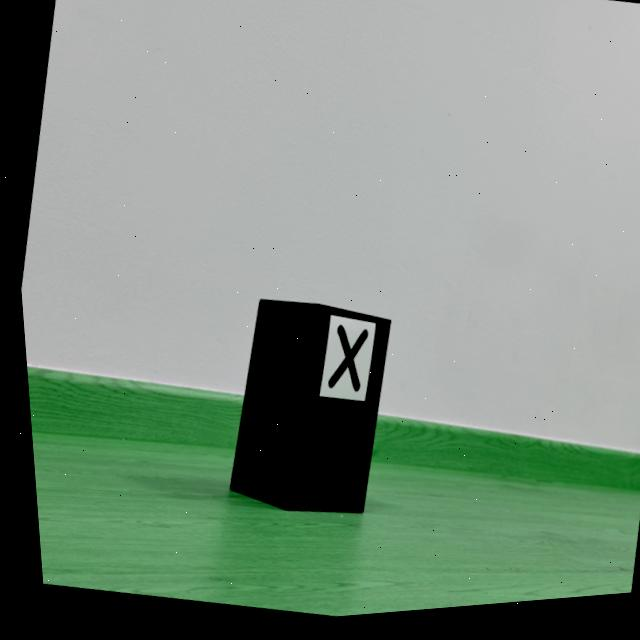X: (321, 331, 363, 397)
